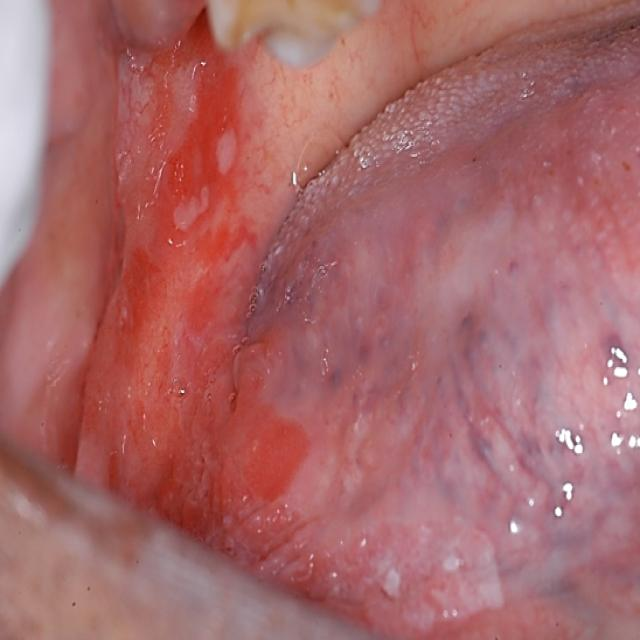leukoplakia-like-detection: (167, 141, 636, 625), (109, 14, 412, 265)
processing_area: (4, 5, 635, 636)
